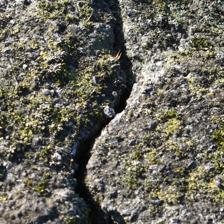Crack: (13, 0, 131, 93), (17, 90, 180, 140)
